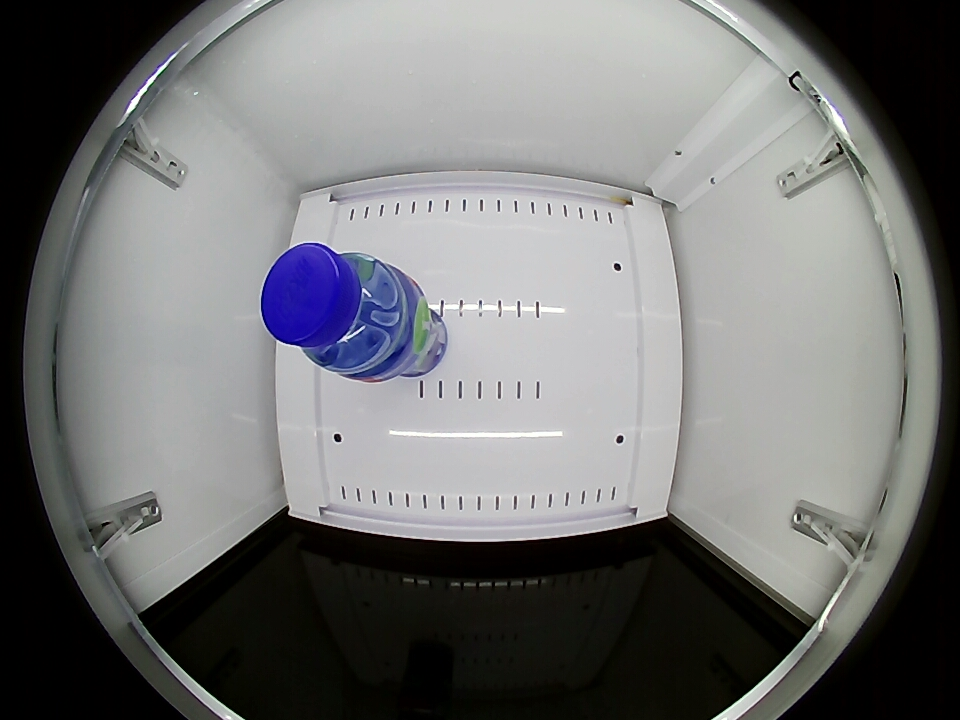maidong: (261, 242, 412, 377)
